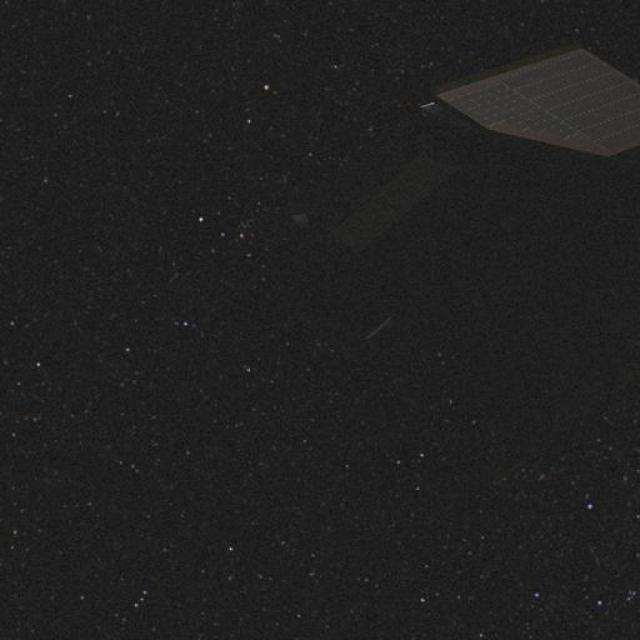cheops: (274, 47, 640, 374)
